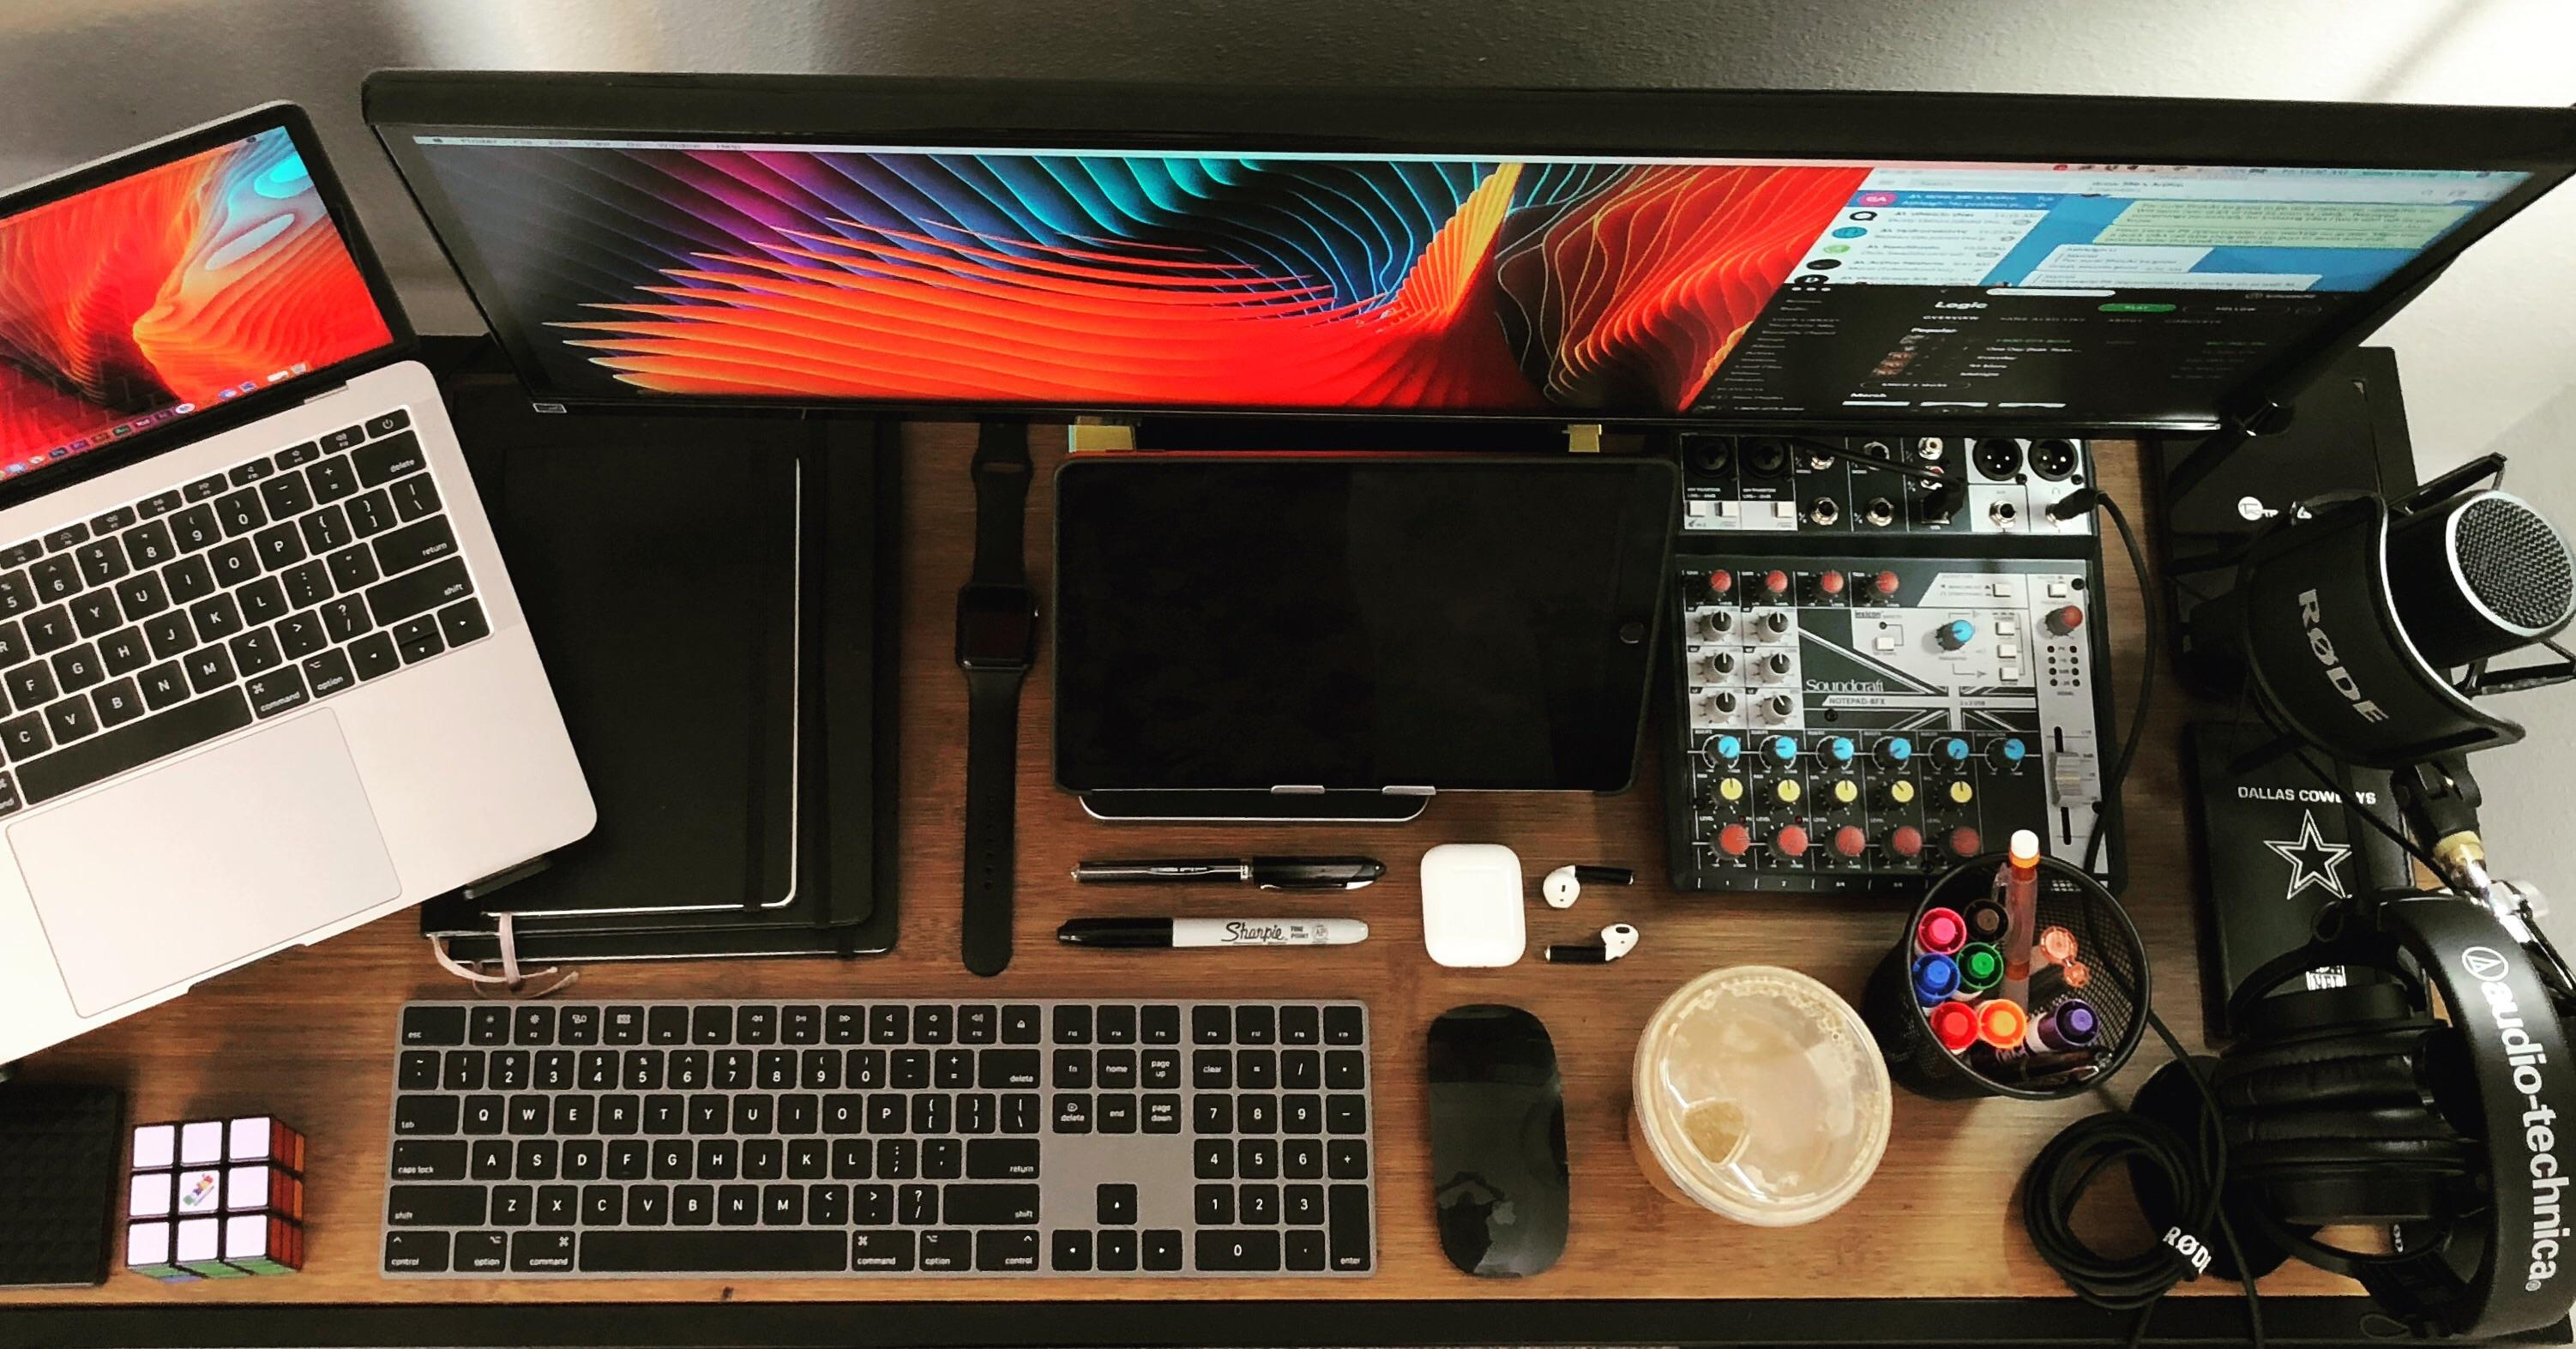Airpods (Apple): (1419, 838, 1641, 984)
Cup: (1625, 962, 1896, 1228)
Decoration (Rubric's Cube): (128, 1117, 305, 1274)
Decoration (Watch): (952, 419, 1048, 976)
Desk (Generic): (9, 339, 2573, 1308)
External Microphone (Generic): (2239, 484, 2573, 773)
Headphones: (2211, 886, 2573, 1347)
Keyboard (Generic): (382, 995, 1380, 1277)
Laptop (OSX): (2, 99, 600, 1075)
Monitor (Landscape): (361, 72, 2576, 421)
Monitor (Laptop): (2, 131, 405, 445)
Mouse (Generic): (1423, 1000, 1569, 1279)
Notebook: (434, 397, 905, 967)
Tablet (iPad): (1051, 450, 1676, 794)
